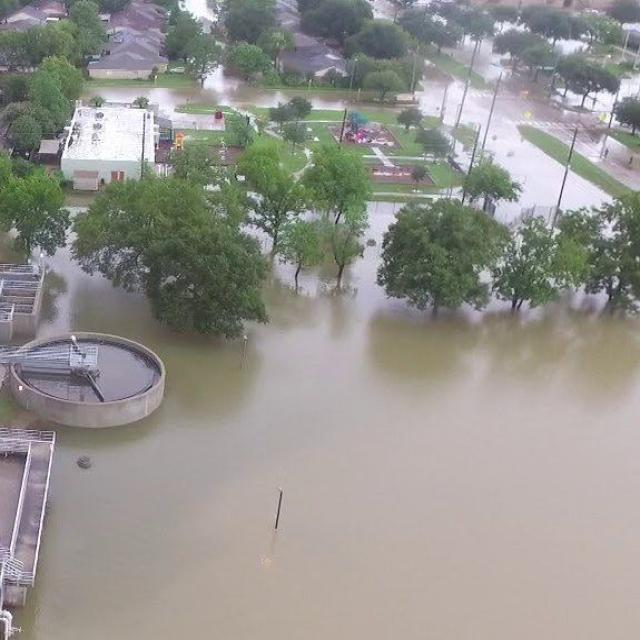flooded_areas: (21, 47, 626, 639)
